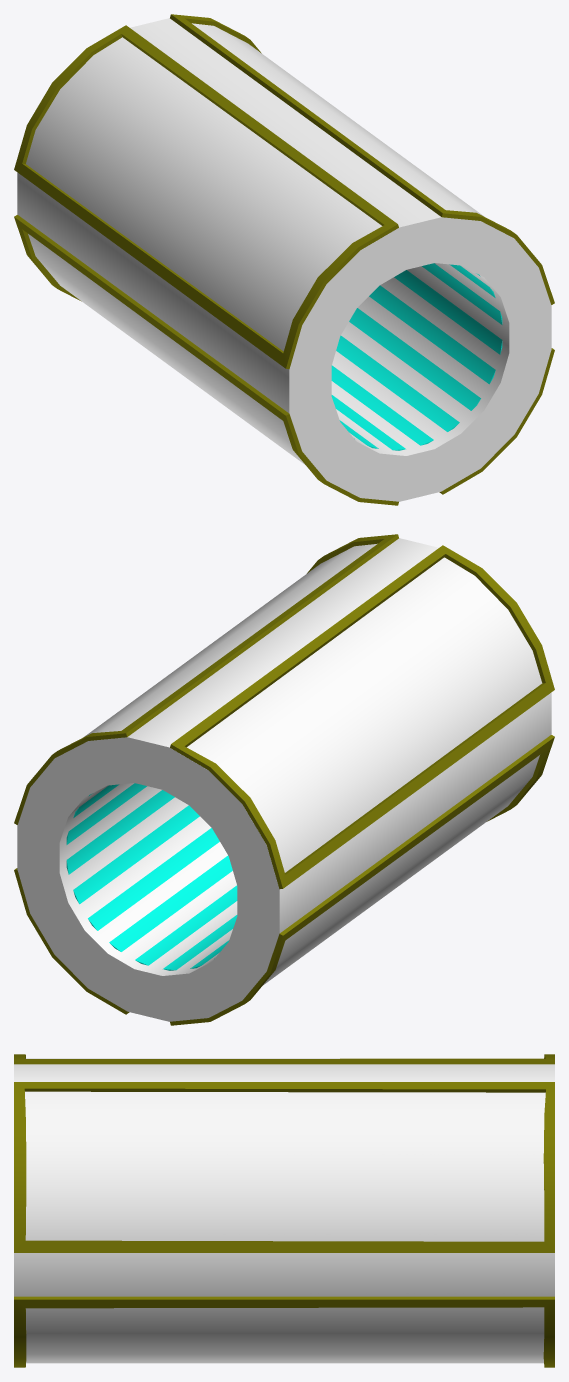
Rendered from f_taihou2.fbx.
3 views of the same model, one above another, from view 1: azimuth 30°, elevation 25°; view 2: azimuth 150°, elevation 25°; view 3: azimuth 270°, elevation 25° (orthographic).
Visible parts, largest first — view 1: f_taihou_2aura, f_taihou_2, f_taihou_2desactived; view 2: f_taihou_2aura, f_taihou_2, f_taihou_2desactived; view 3: f_taihou_2aura, f_taihou_2.
Part boxes in pixels (x1,y1,x2,y2): f_taihou_2aura: (17,18,551,501); f_taihou_2: (14,14,554,505); f_taihou_2desactived: (331,263,502,450); f_taihou_2aura: (17,538,551,1021); f_taihou_2: (14,534,554,1025); f_taihou_2desactived: (66,783,237,970); f_taihou_2aura: (14,1058,554,1363); f_taihou_2: (14,1054,554,1367).
Bounding box in the file's own units: 35.02 × 35.03 × 61.33.
5 materials, 5 textured.
